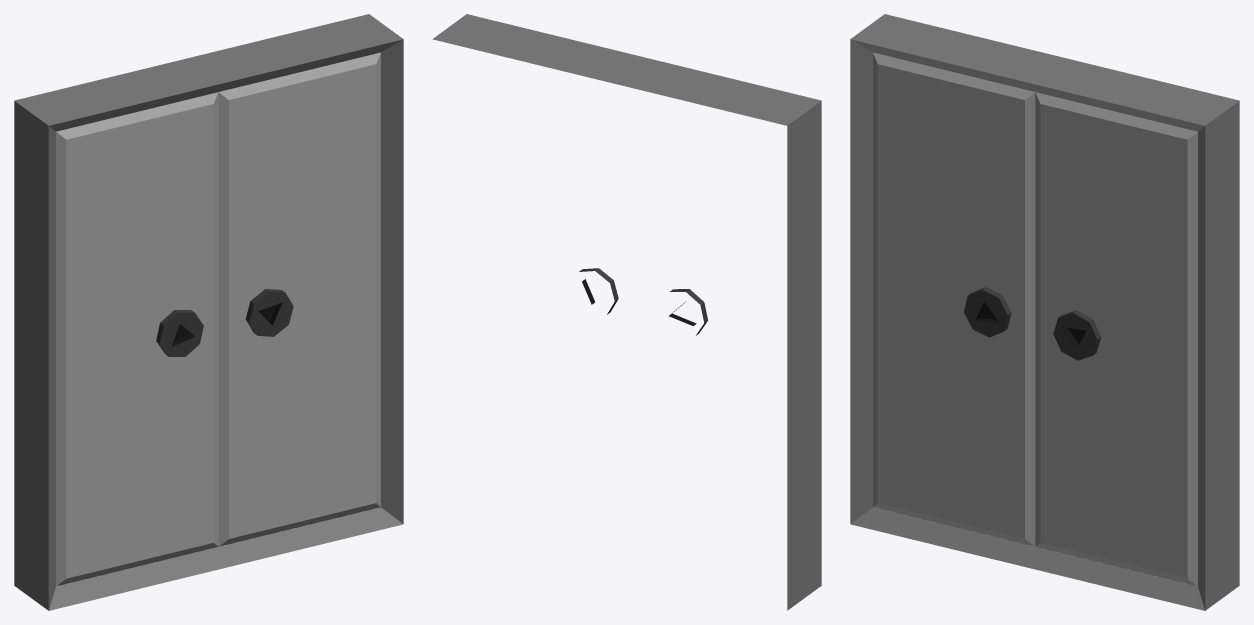
File: LightBox.glb
The picture shows the model from 3 angles, left to right: view 1: azimuth 30°, elevation 25°; view 2: azimuth 150°, elevation 25°; view 3: azimuth 330°, elevation 25°; orthographic projection.
Visible parts, largest first — view 1: QuadroDeLuz; view 2: QuadroDeLuz; view 3: QuadroDeLuz.
Part boxes in pixels (x1,y1,x2,y2): QuadroDeLuz: [14, 14, 403, 610]; QuadroDeLuz: [432, 14, 821, 610]; QuadroDeLuz: [850, 14, 1239, 610].
Bounding box in the file's own units: 0.4 × 0.5224 × 0.0675.
1 material, 1 textured.
